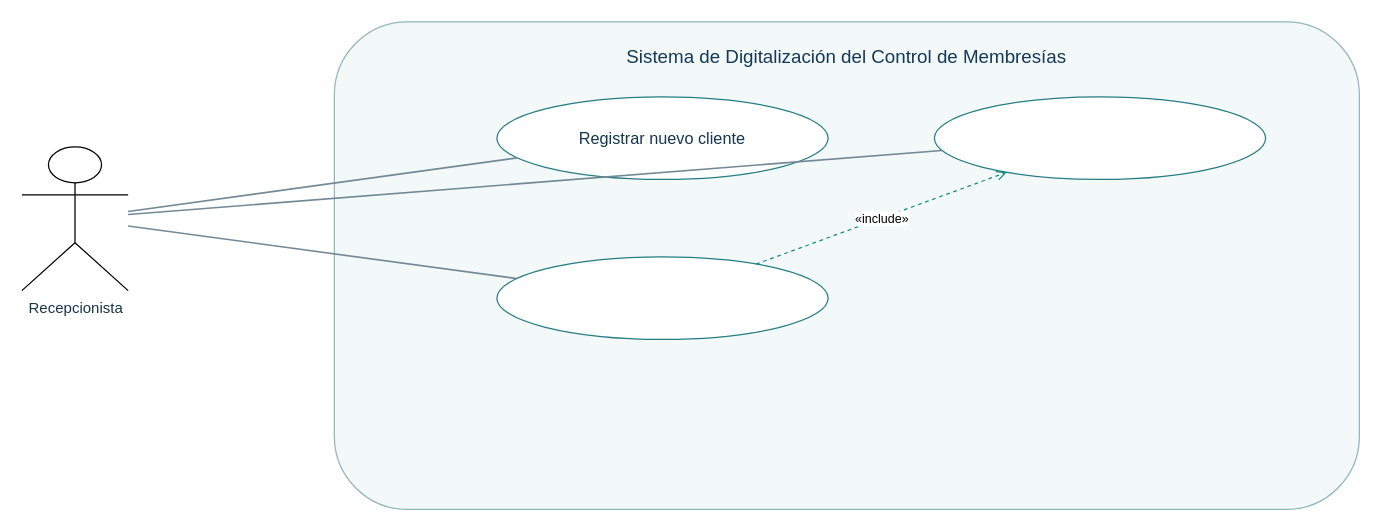
This 1381x531 diagram has some shape labels left out. The shapes that lost their labels are listed below. From the top down, each one's centre as x and y in pixels, then its label:
point 1099,137: Consultar cliente existente
point 662,297: Renovar membresía
